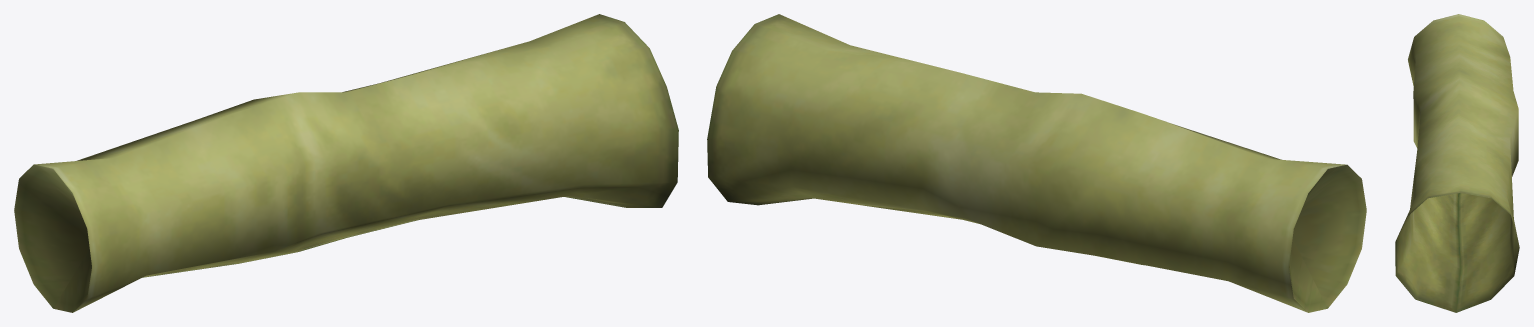
Rendered from leftArm.obj.
3 renders of one model, left to right at view 1: azimuth 30°, elevation 25°; view 2: azimuth 150°, elevation 25°; view 3: azimuth 270°, elevation 25°, orthographic. The views are drawn at different scales.
Visible parts, largest first — view 1: polygon2; view 2: polygon2; view 3: polygon2.
Part boxes in pixels (x1=…): polygon2: x1=14, y1=14, x2=678, y2=312; polygon2: x1=707, y1=14, x2=1366, y2=312; polygon2: x1=1395, y1=14, x2=1519, y2=312.
Size of the model in its own units: 4.3 by 1.38 by 1.23.
1 material, 1 textured.
